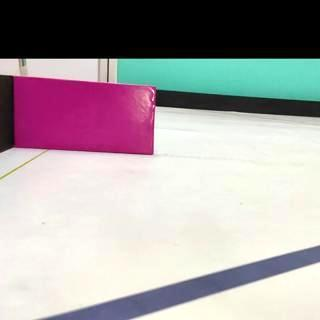xparking: (21, 84, 153, 152)
